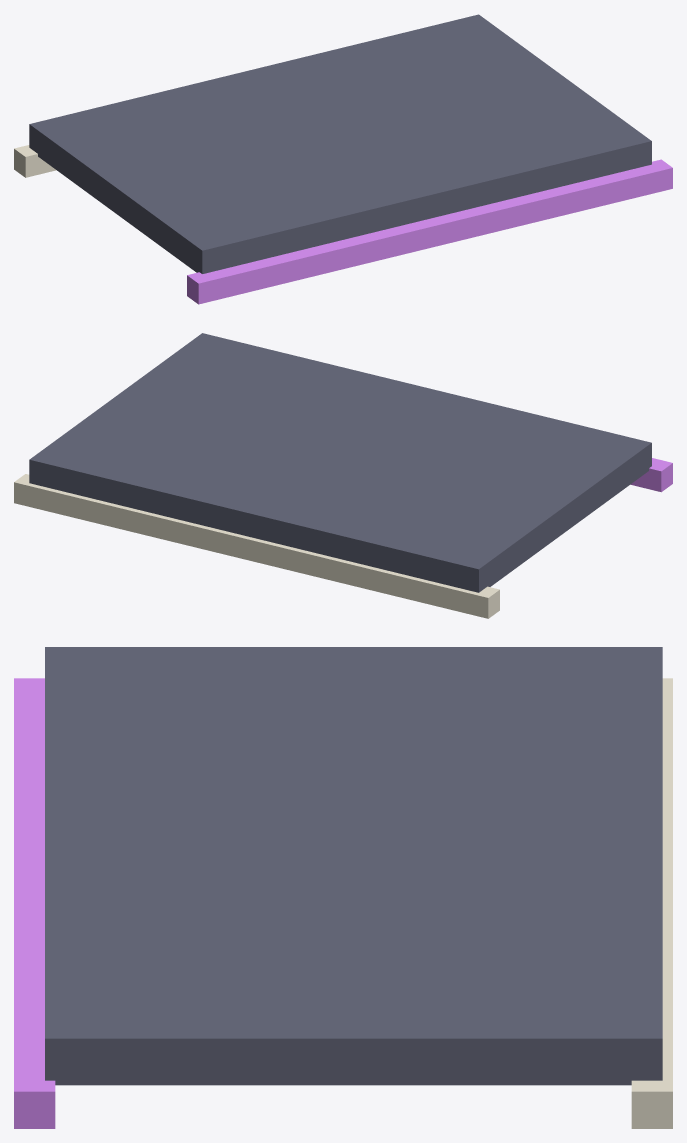
The model's file is 01_world_facade.glb.
3 views of the same model, one above another, from view 1: azimuth 30°, elevation 25°; view 2: azimuth 150°, elevation 25°; view 3: azimuth 270°, elevation 25° (orthographic). The views are drawn at different scales.
Parts seen in each view (by area): view 1: wall_panel_upgrade, trim_top, trim_bottom; view 2: wall_panel_upgrade, trim_bottom, trim_top; view 3: wall_panel_upgrade, trim_top, trim_bottom.
Boxes of the visible parts, bbox=[...] form: wall_panel_upgrade: bbox=[29, 14, 651, 273]; trim_top: bbox=[187, 159, 672, 304]; trim_bottom: bbox=[14, 145, 56, 177]; wall_panel_upgrade: bbox=[29, 333, 651, 592]; trim_bottom: bbox=[14, 474, 499, 618]; trim_top: bbox=[630, 458, 672, 492]; wall_panel_upgrade: bbox=[45, 647, 662, 1085]; trim_top: bbox=[14, 678, 55, 1128]; trim_bottom: bbox=[631, 678, 672, 1128].
Size of the model in its own units: 1.9 by 0.17 by 1.28.
